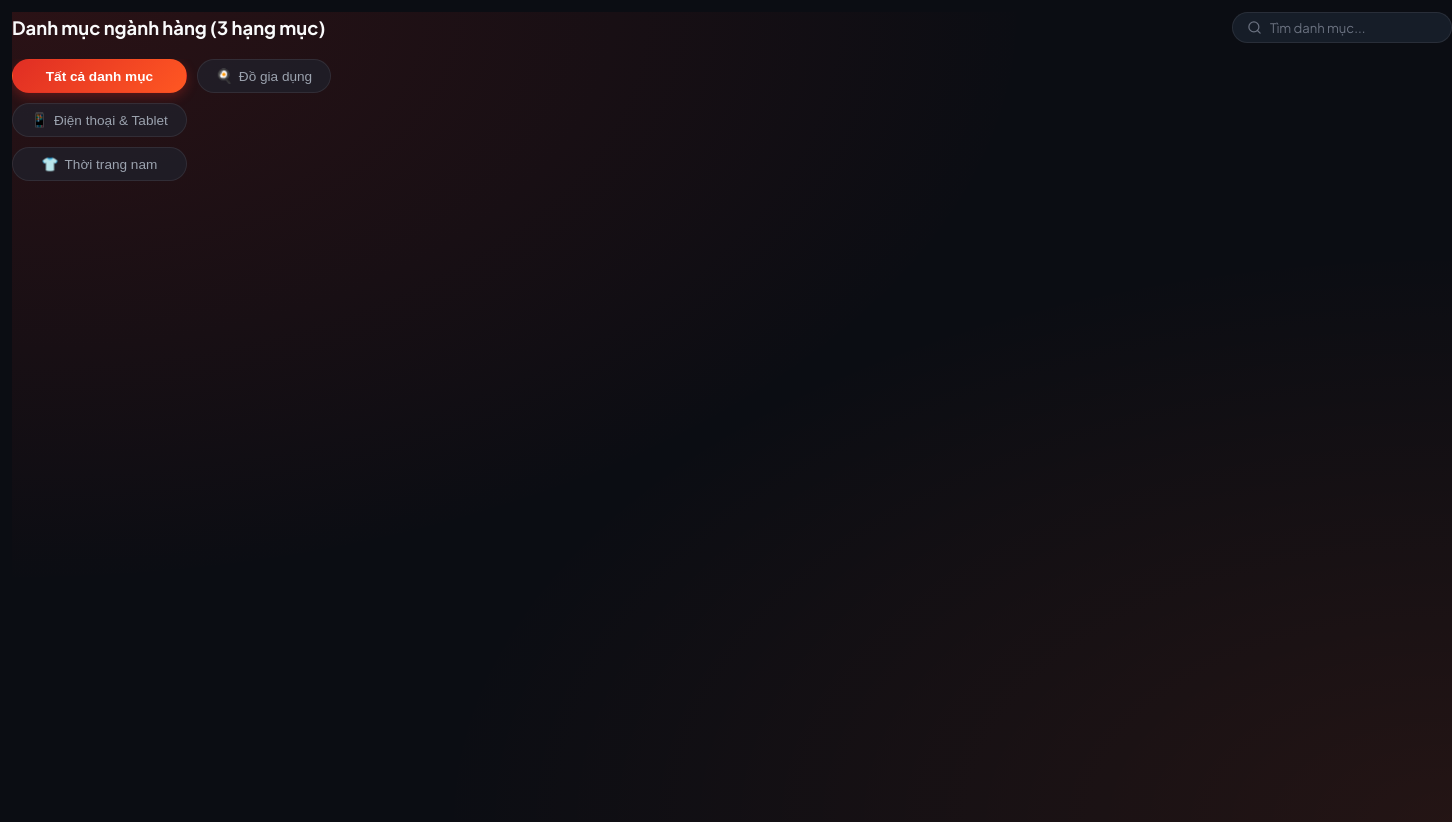
Test: Search & Filter Module › TC_FILTER_04: Should filter category pills when typing in category search box
The width and height of the screenshot is (1452, 822).
// Type "Điện thoại"
Type "Điện thoại" into the field with test id "category-search-input". click: (1354, 28)
box: [1270,19,1437,36]
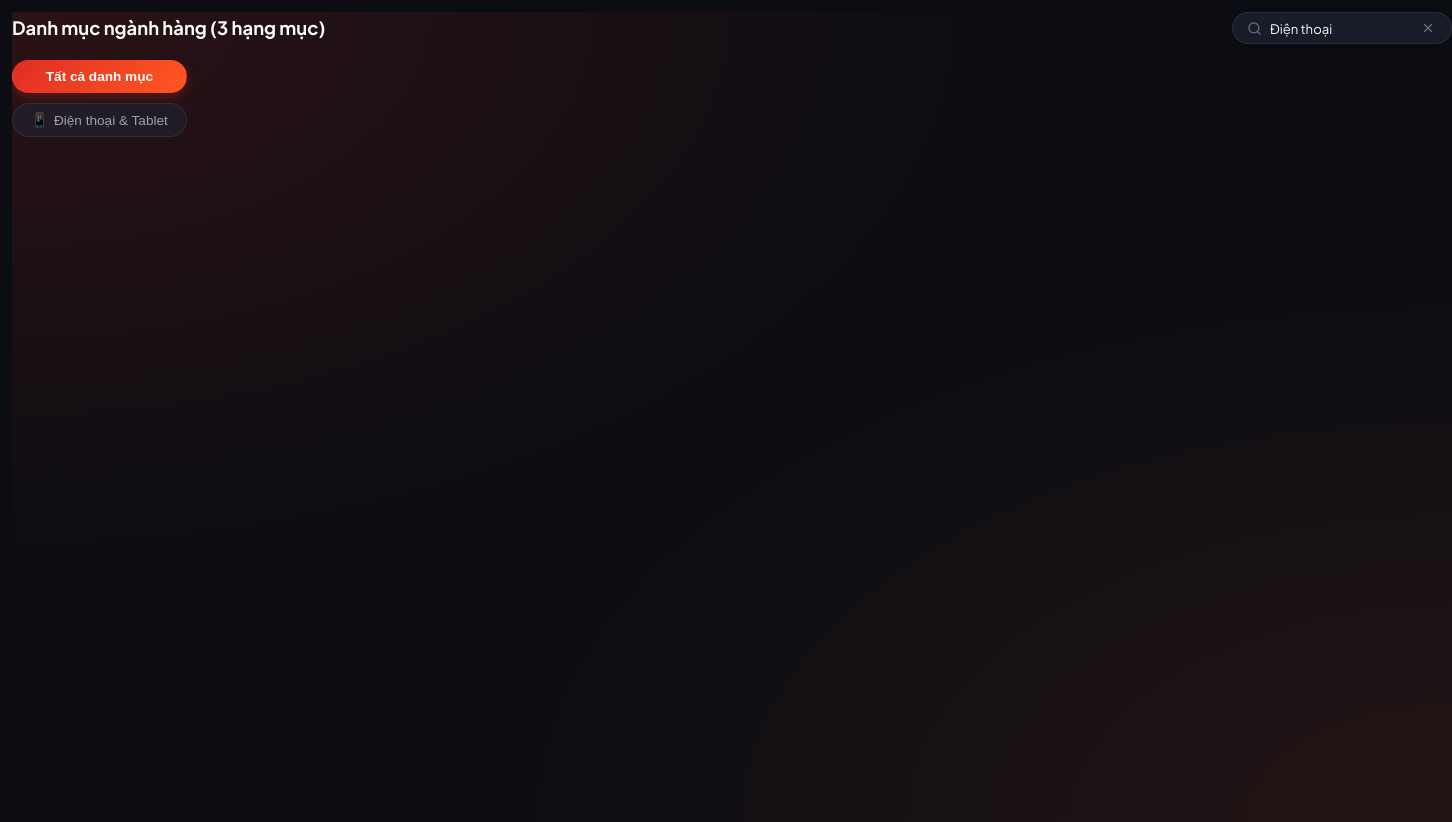
Expected: the button with test id "category-pill-cat-1" is shown, [12,103,187,137]
Expected: the button with test id "category-pill-cat-2" is gone
Expected: the button with test id "category-pill-cat-3" is gone
// Clear search using clear button
Click the button with test id "category-search-clear-btn". click: (1428, 28)
box: [1419,19,1437,37]
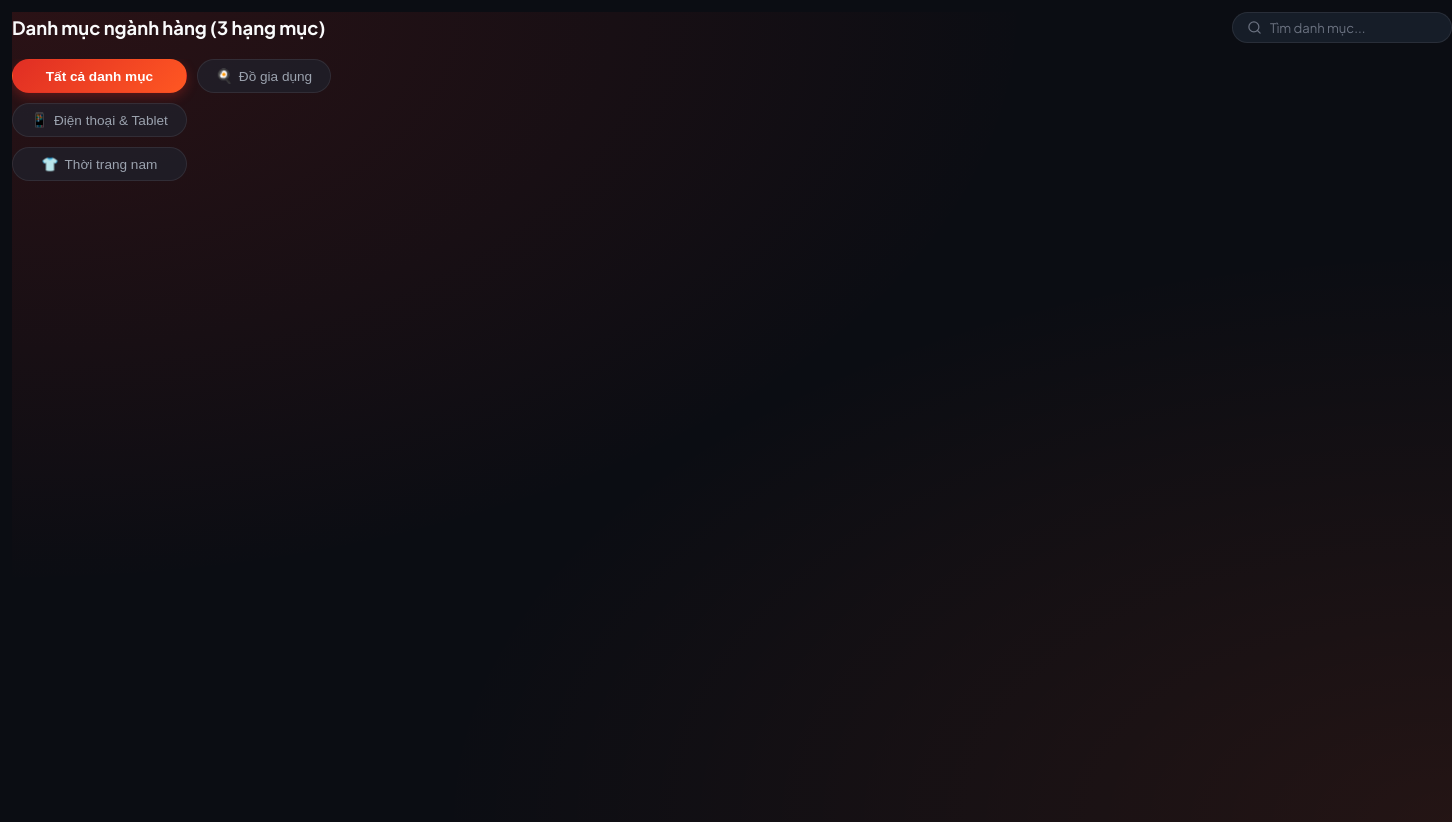
Expected: the button with test id "category-pill-cat-1" is shown, [12,103,187,137]
Expected: the button with test id "category-pill-cat-2" is shown, [12,147,187,181]
Expected: the button with test id "category-pill-cat-3" is shown, [197,59,331,93]
